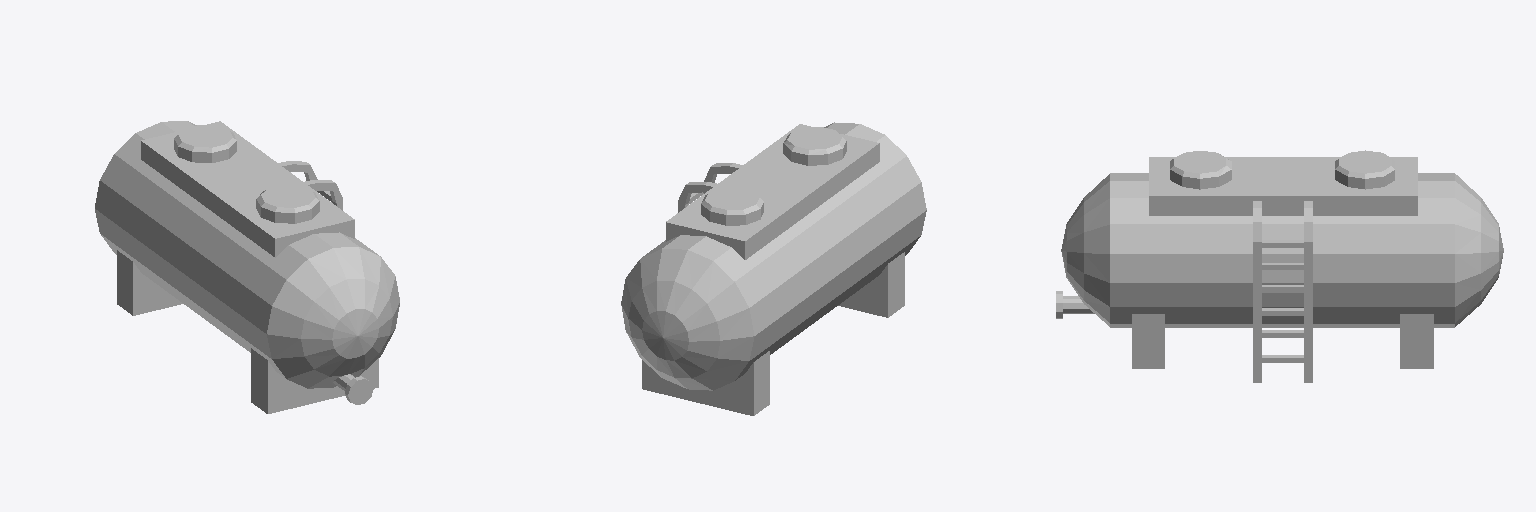
The model's file is OILTANK1.obj.
The picture shows the model from 3 angles: view 1: azimuth 30°, elevation 25°; view 2: azimuth 150°, elevation 25°; view 3: azimuth 270°, elevation 25°; orthographic projection.
Parts seen in each view (by area): view 1: Group; view 2: Group; view 3: Group.
Boxes of the visible parts, box(x1,y1,x2,y2) form: Group: box(95, 121, 399, 413); Group: box(621, 122, 926, 415); Group: box(1056, 150, 1503, 382).
Bounding box in the file's own units: 73.33 × 85.5 × 192.